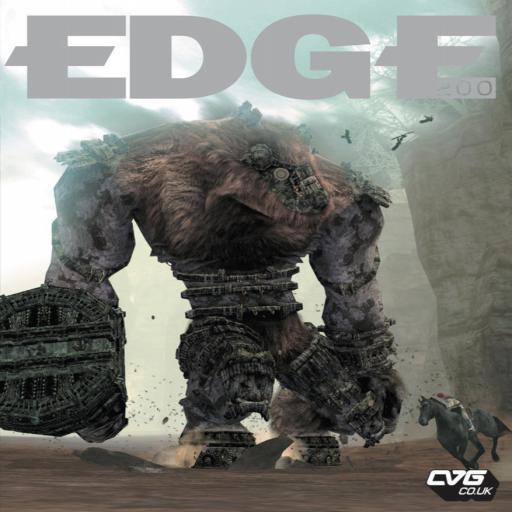horse: (416, 393, 512, 471)
